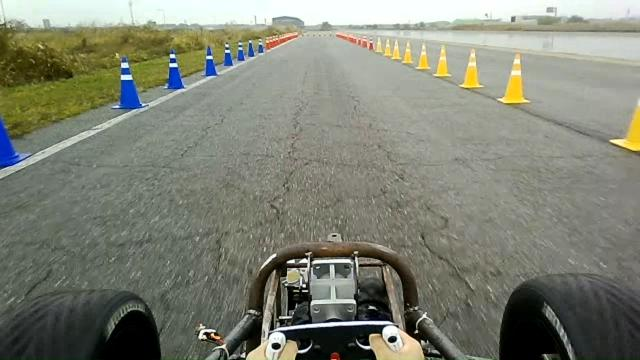blue cone: (111, 56, 148, 109), (0, 115, 32, 167), (163, 49, 185, 90), (201, 44, 218, 77), (222, 42, 234, 66), (237, 40, 246, 61), (247, 39, 255, 57), (258, 38, 264, 54)
yellow cone: (496, 53, 531, 104), (609, 99, 639, 152), (458, 47, 484, 89), (432, 44, 452, 78), (415, 41, 431, 70), (402, 41, 413, 64), (391, 39, 401, 60), (383, 38, 392, 57), (374, 36, 383, 54)
